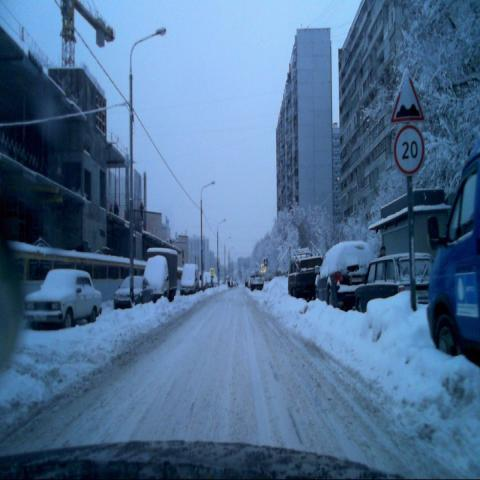1_16: (388, 68, 426, 123)
